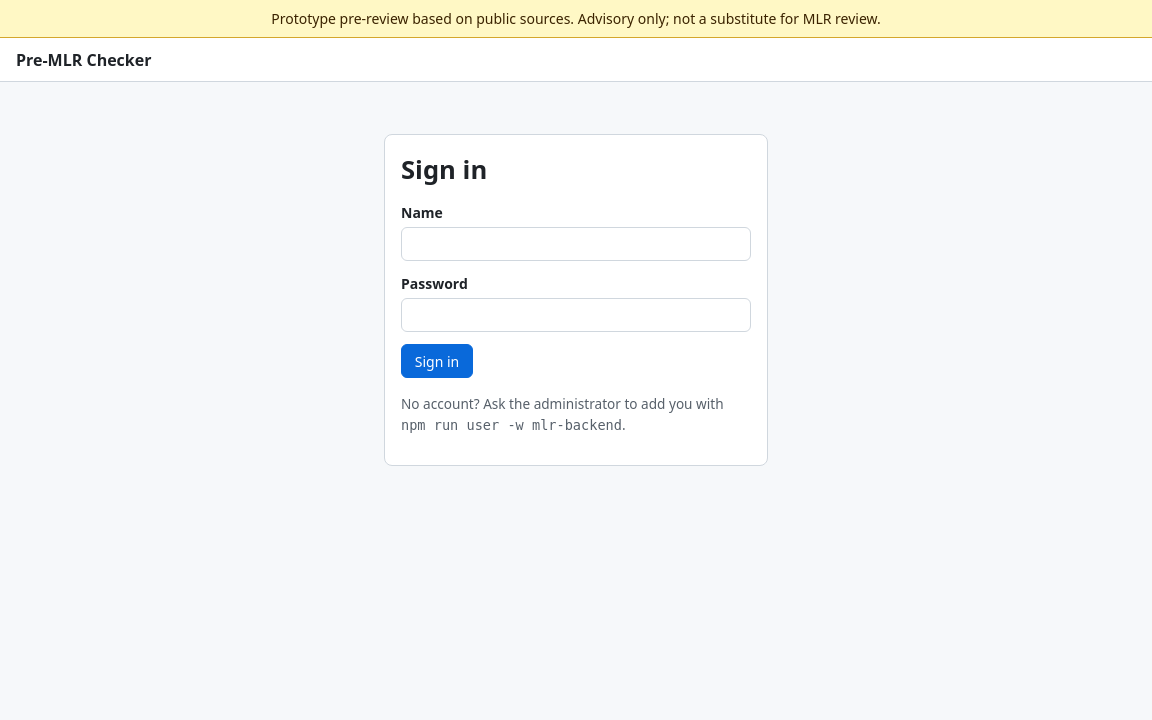
Scenario: sign-in › shows the sign-in page when signed out, then the app after signing in
Check: the heading "Sign in" is shown, box [401,152,487,187]
Check: the text "Prototype pre-review based on public sources. Advisory only; not a substitute for MLR review." is shown, box [271,9,881,28]
In the field labelled "Name": (576, 244) [401,227,751,261], type "Pat Reviewer"
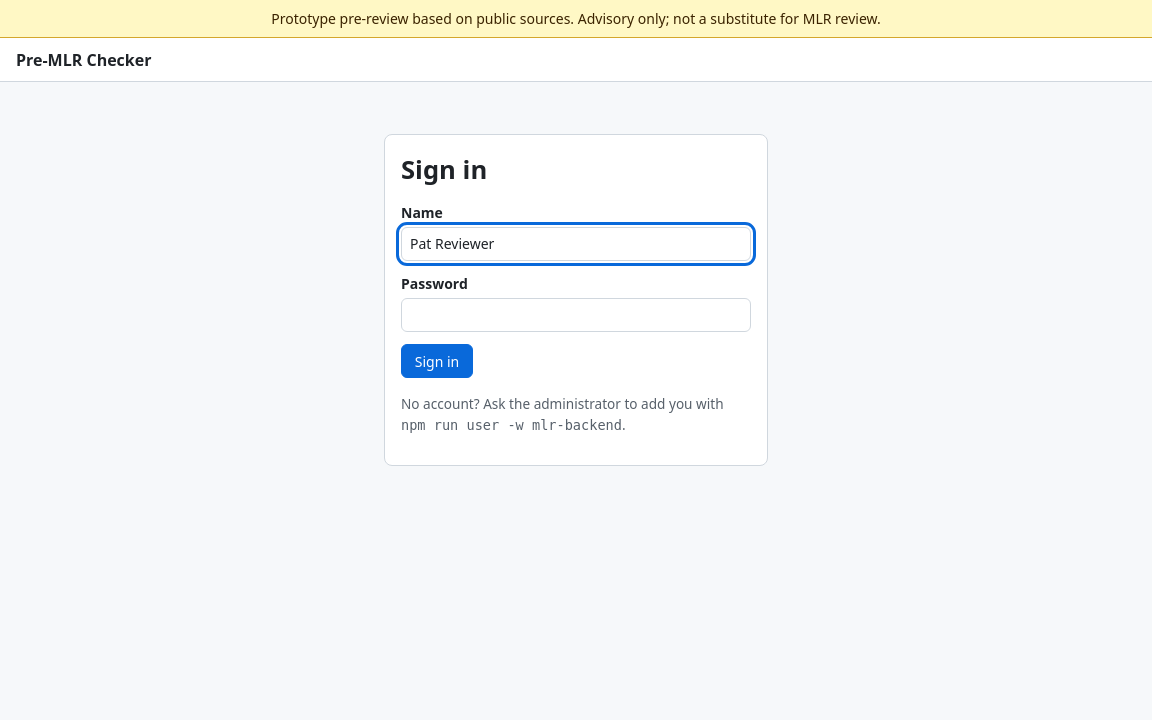
In the password field labelled "Password": (576, 315) [401,298,751,332], type "wrong"
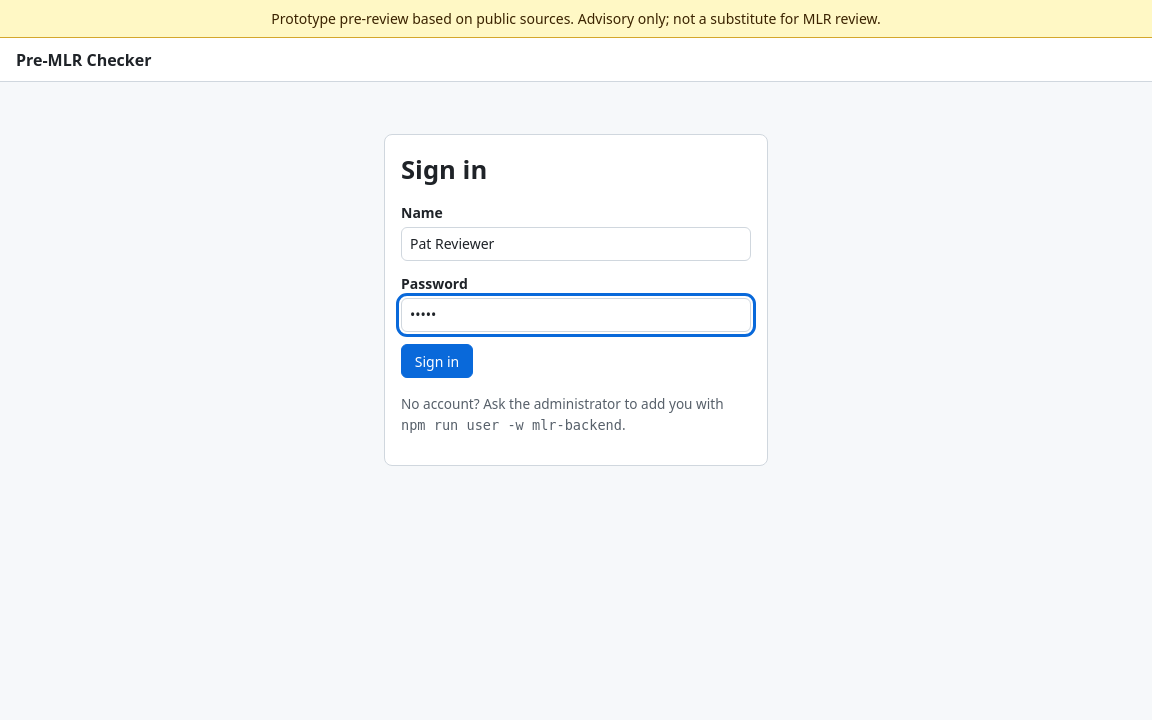
Click the button "Sign in": (437, 361) [401,344,473,378]
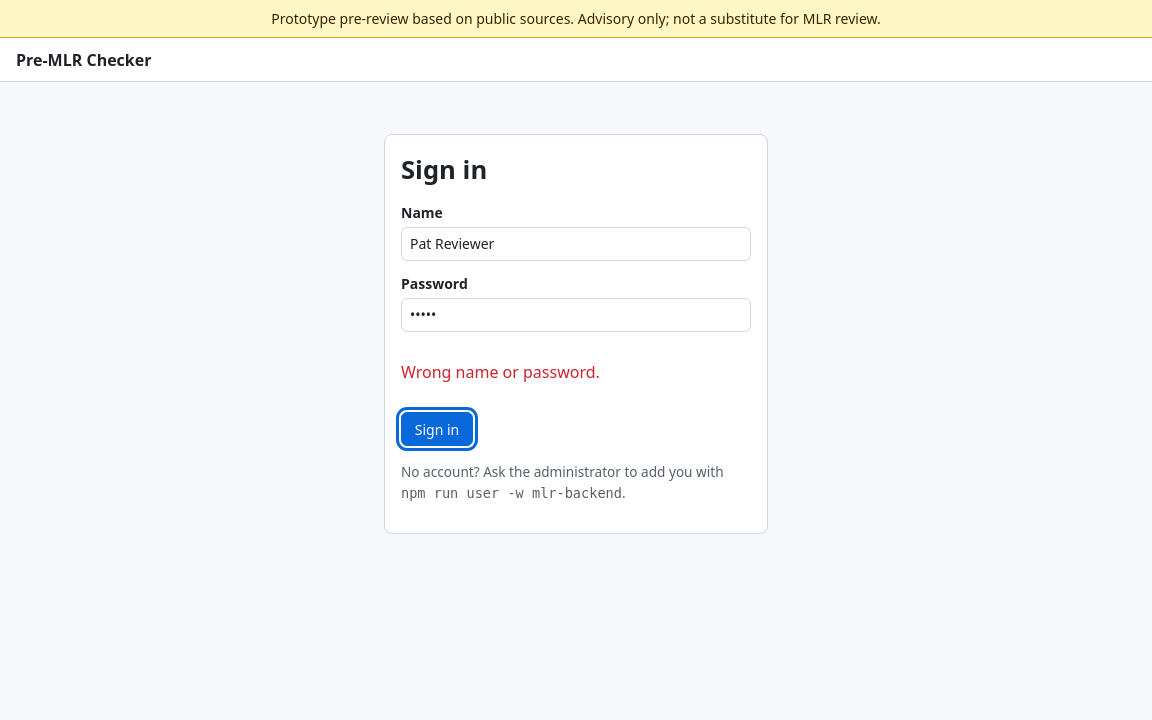
Check: the message reads "Wrong name or password.", box [401,361,600,383]
In the password field labelled "Password": (576, 315) [401,298,751,332], type "correct horse battery"
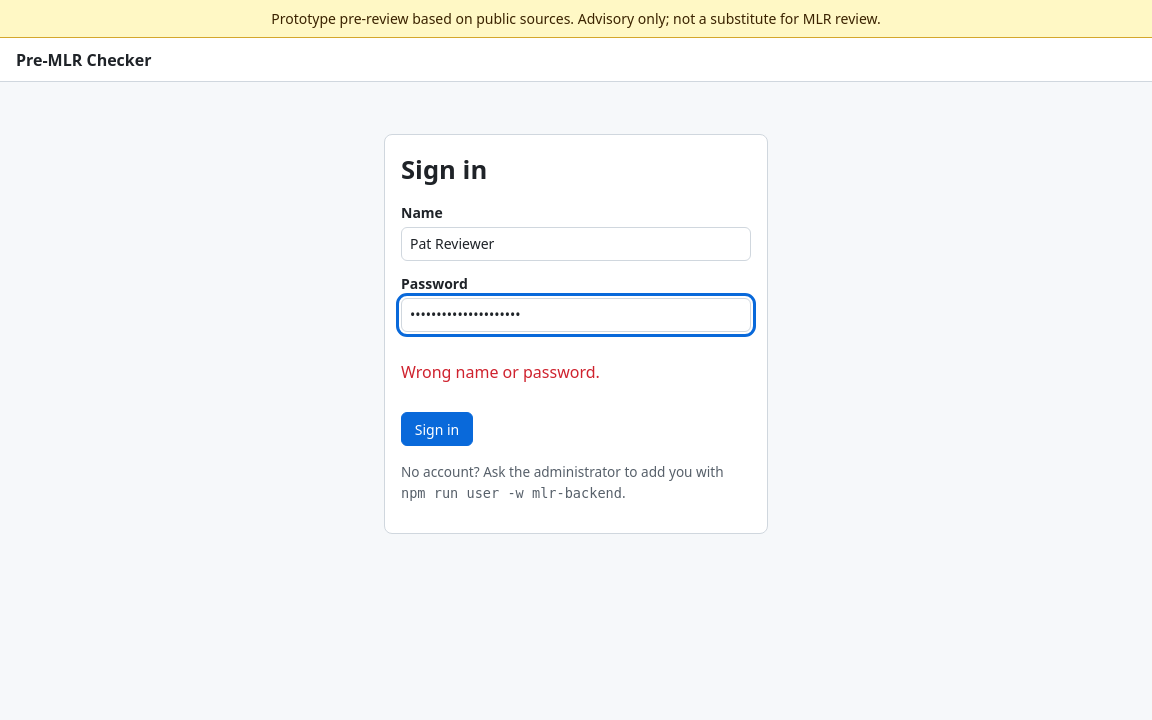
Click the button "Sign in": (437, 429) [401,412,473,446]
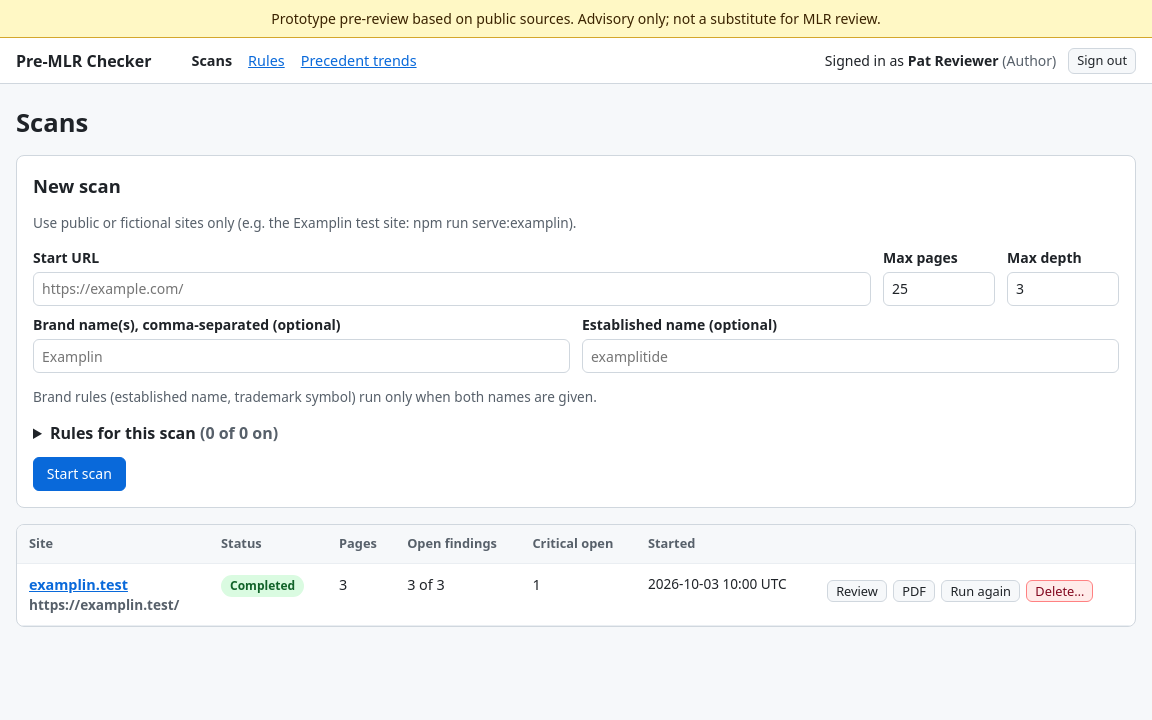
Check: the heading "Scans" is shown, box [16,105,88,140]
Check: the text "Signed in as Pat Reviewer (Author)" is shown, box [825,50,1056,71]
